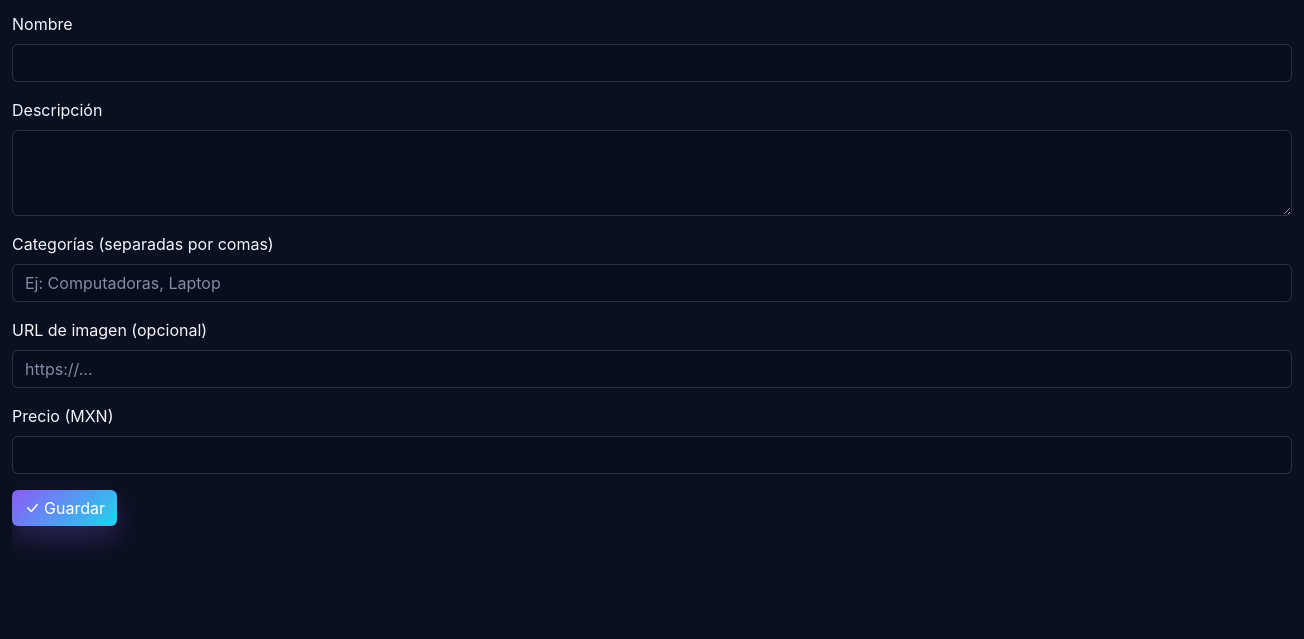
Scenario: AdminProductForm › precio 0 muestra error de validación
Type "Producto Test" into the field labelled "Nombre".
click(652, 63); type("Producto Test")  # box top-left (12, 44), bottom-right (1292, 82)
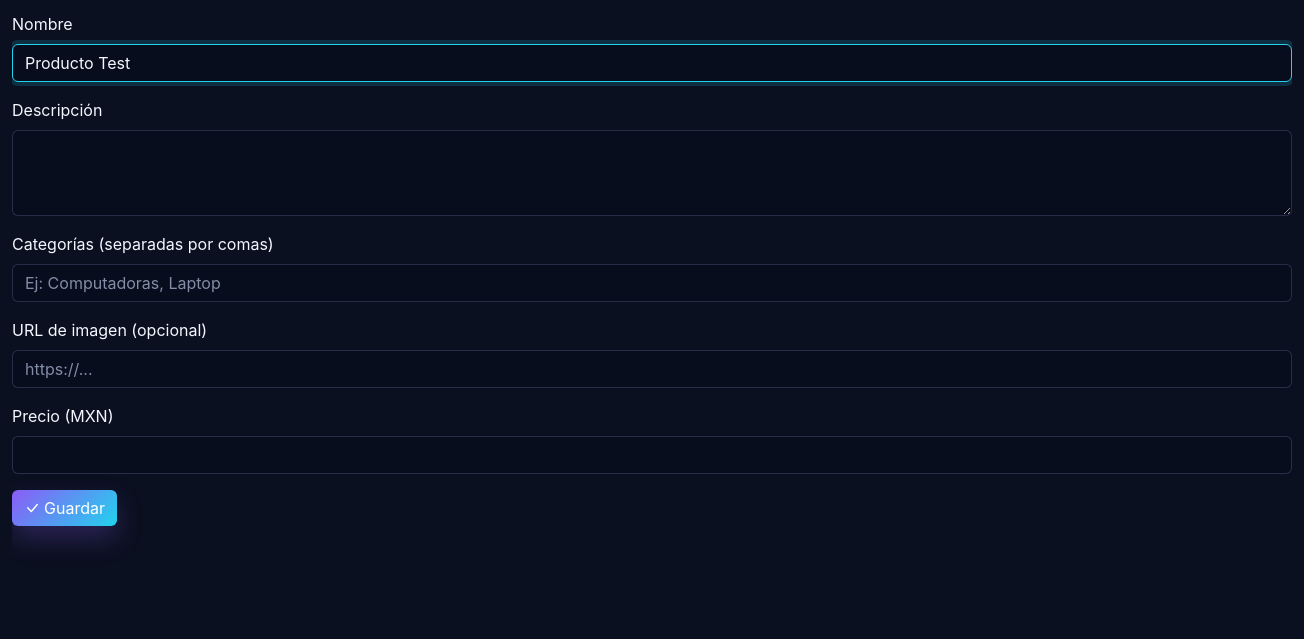
Type "Descripción test" into the text box labelled "Descripción".
click(652, 173); type("Descripción test")  # box top-left (12, 130), bottom-right (1292, 216)
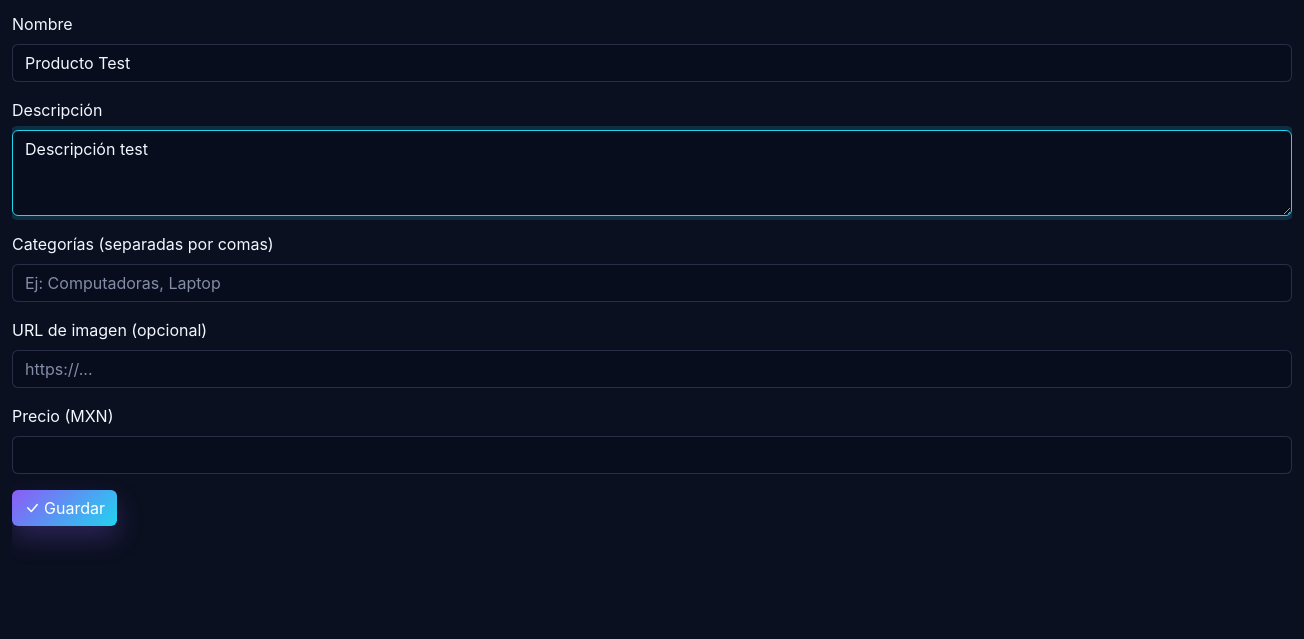
Type "Categoría" into the field labelled "Categorías (separadas por comas)".
click(652, 283); type("Categoría")  # box top-left (12, 264), bottom-right (1292, 302)
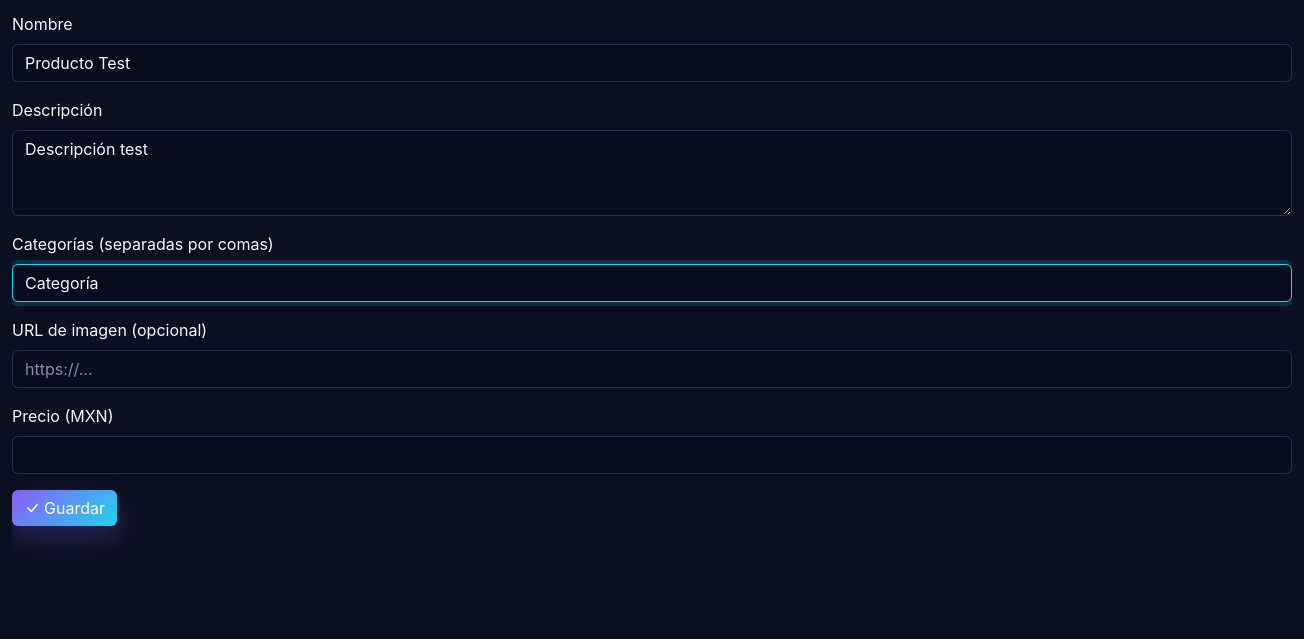
Type "0" into the number field labelled "Precio (MXN)".
click(652, 455); type("0")  # box top-left (12, 436), bottom-right (1292, 474)
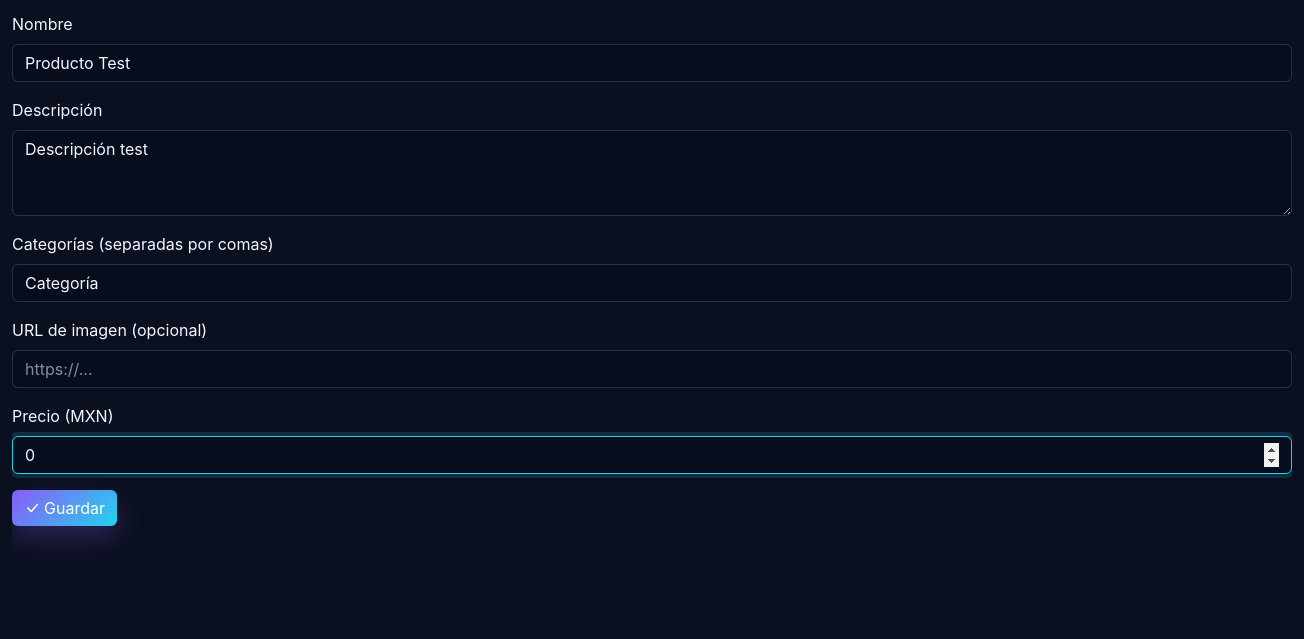
Submit the form named "Guardar"
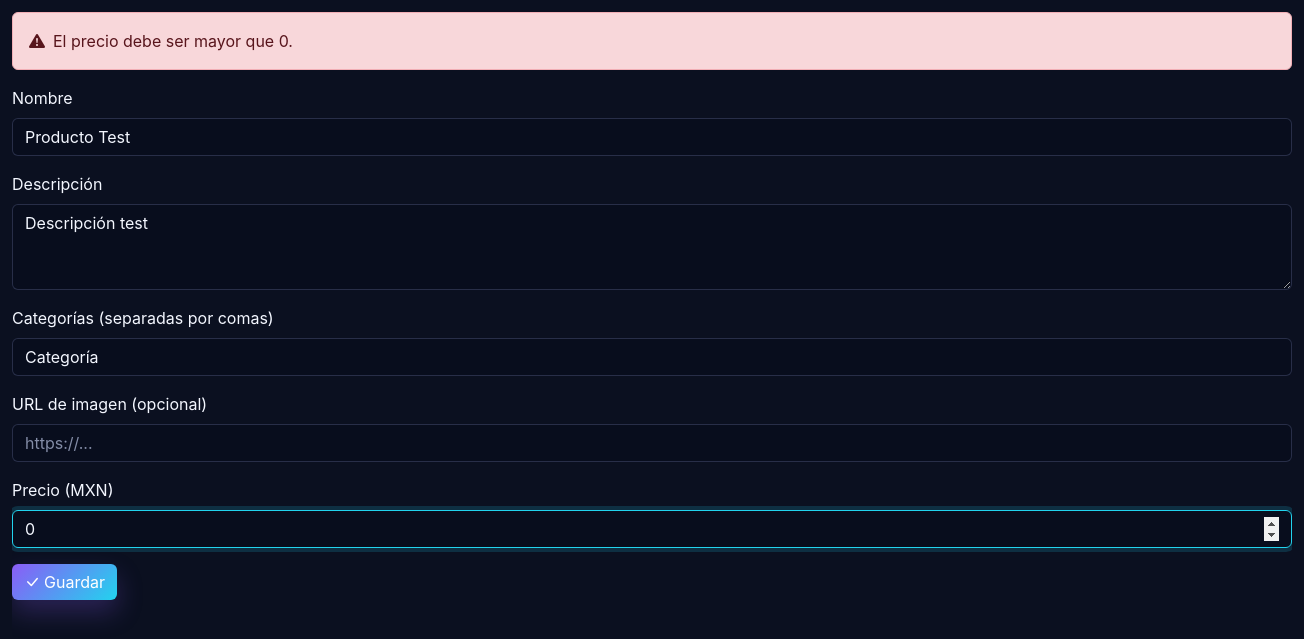
Result: the text "El precio debe ser mayor que 0." is shown at top-left (12, 12), bottom-right (1292, 70)
